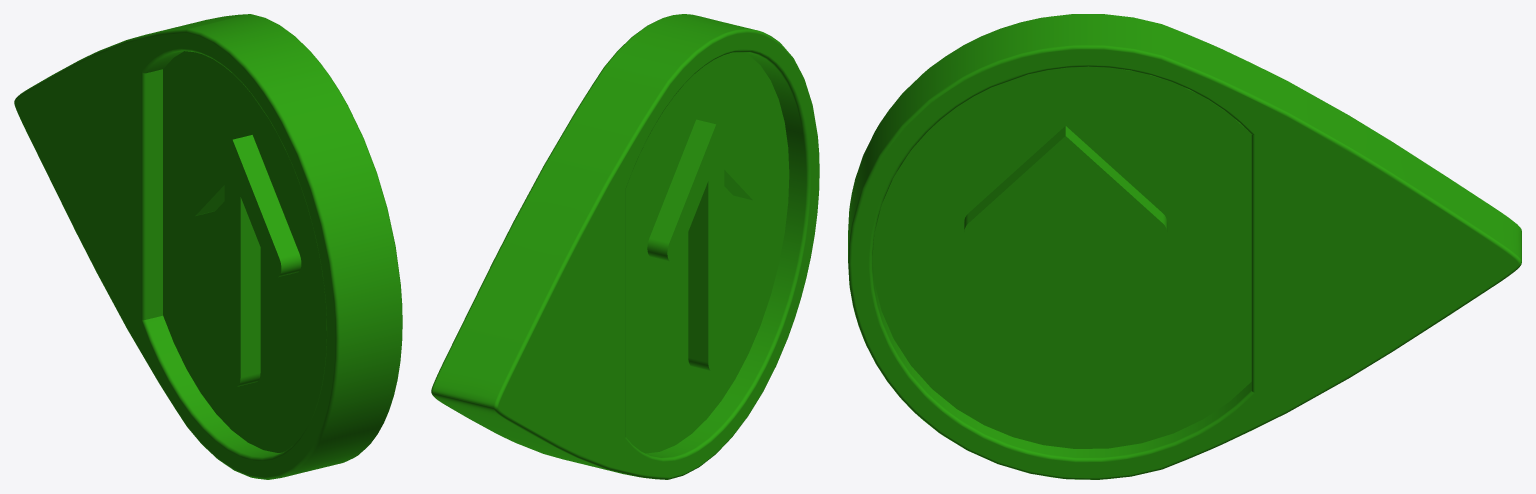
Rendered from ICONO 9.fbx.
3 views of the same model, side by side, from view 1: azimuth 30°, elevation 25°; view 2: azimuth 150°, elevation 25°; view 3: azimuth 270°, elevation 25° (orthographic). The views are drawn at different scales.
Parts seen in each view (by area): view 1: Icono 6; view 2: Icono 6; view 3: Icono 6.
Part boxes in pixels (x1,y1,x2,y2): Icono 6: (14, 14, 402, 479); Icono 6: (431, 14, 819, 479); Icono 6: (848, 14, 1521, 479).
Bounding box in the file's own units: 112 × 675 × 947.
